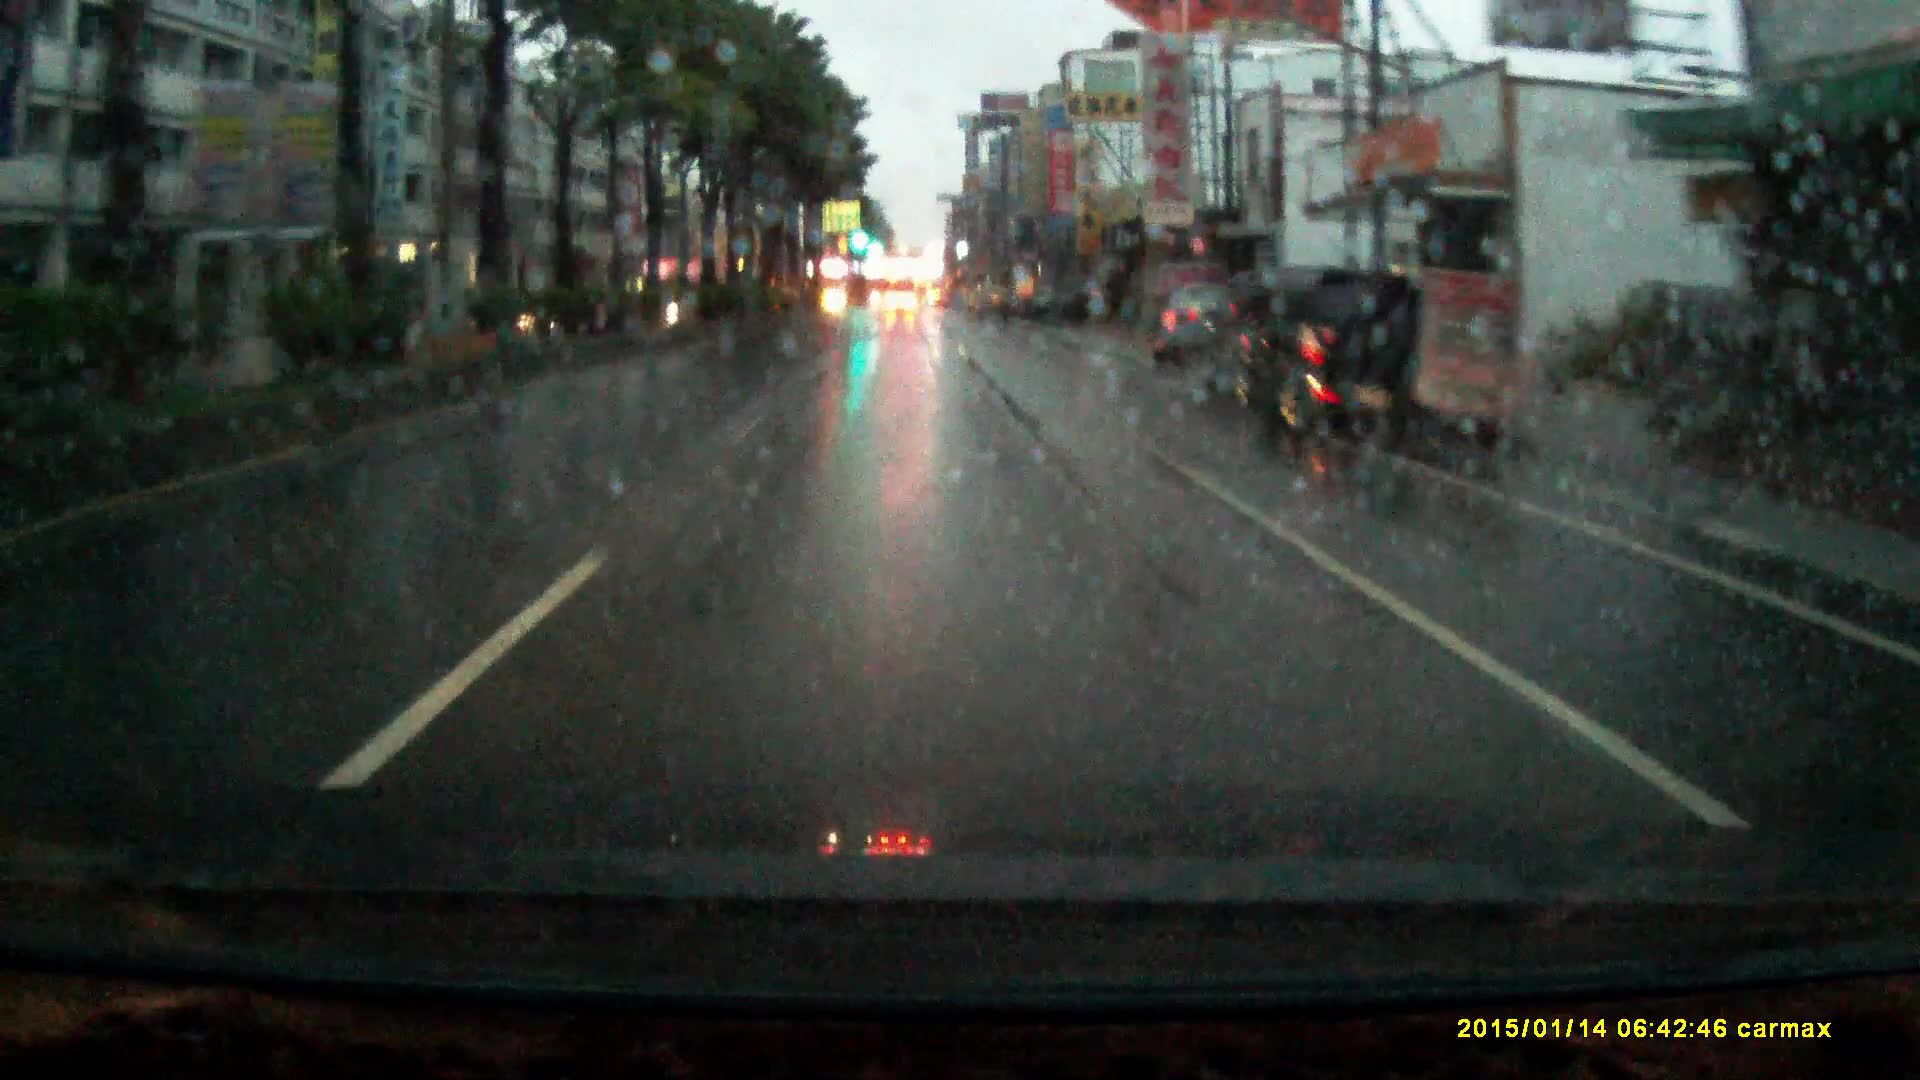vehicle: (1226, 270, 1441, 452), (884, 293, 918, 318)
